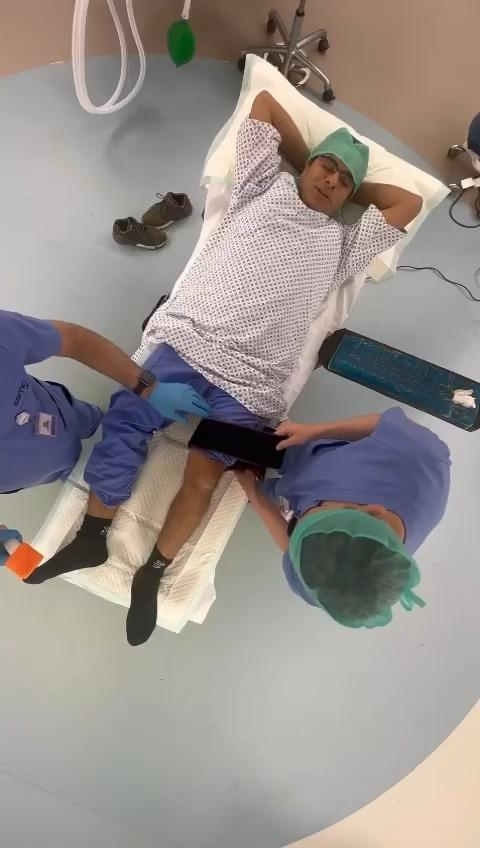patient: (25, 91, 422, 645)
prepstick: (5, 542, 43, 580)
tourniquet: (189, 417, 287, 468)
